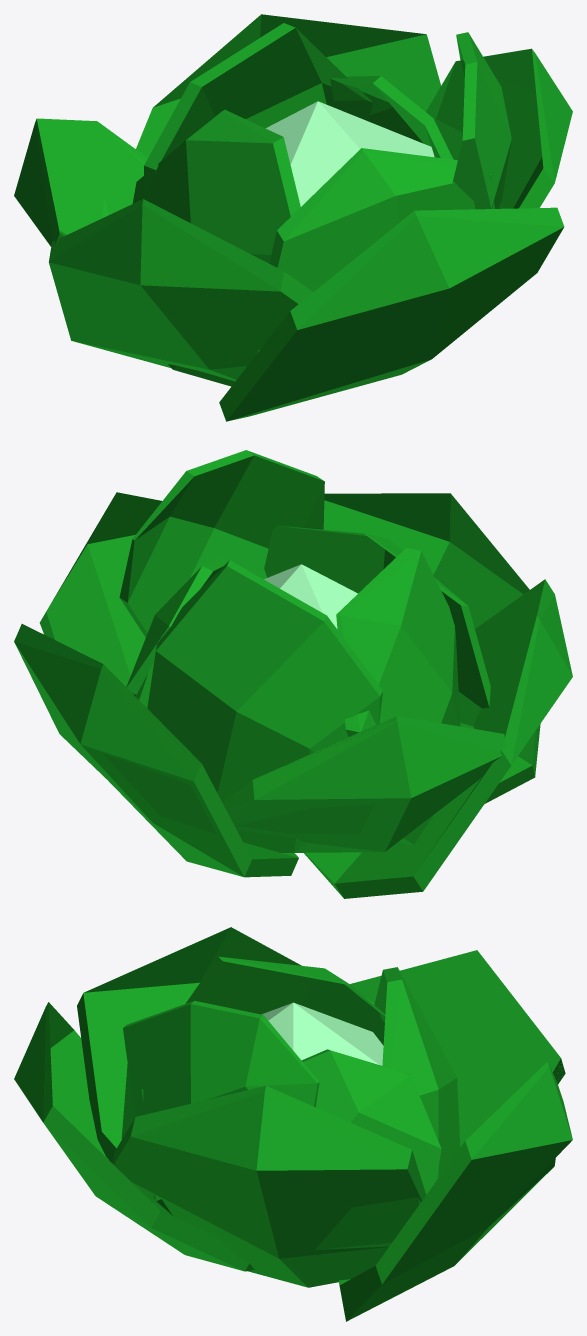
Rendered from Cabbage.fbx.
3 renders of one model, top to bottom at view 1: azimuth 30°, elevation 25°; view 2: azimuth 150°, elevation 25°; view 3: azimuth 270°, elevation 25°, orthographic.
Visible parts, largest first — view 1: Cabbage; view 2: Cabbage; view 3: Cabbage.
Part boxes in pixels (x1=…): Cabbage: x1=14, y1=14, x2=572, y2=421; Cabbage: x1=14, y1=450, x2=572, y2=898; Cabbage: x1=14, y1=927, x2=572, y2=1321.
Bounding box in the file's own units: 71.23 × 47.57 × 72.96.
